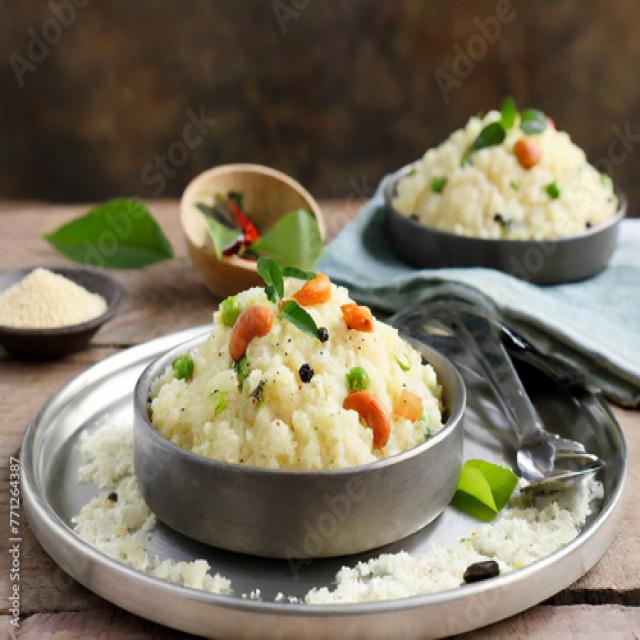UPMA: (151, 250, 440, 469), (394, 100, 617, 237)
